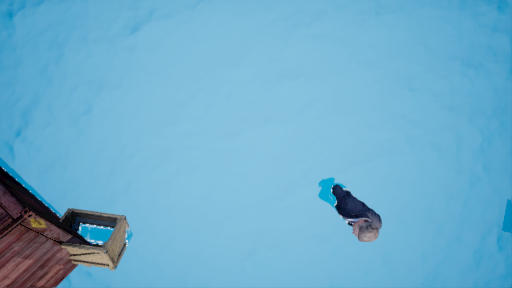person: (314, 173, 389, 241)
